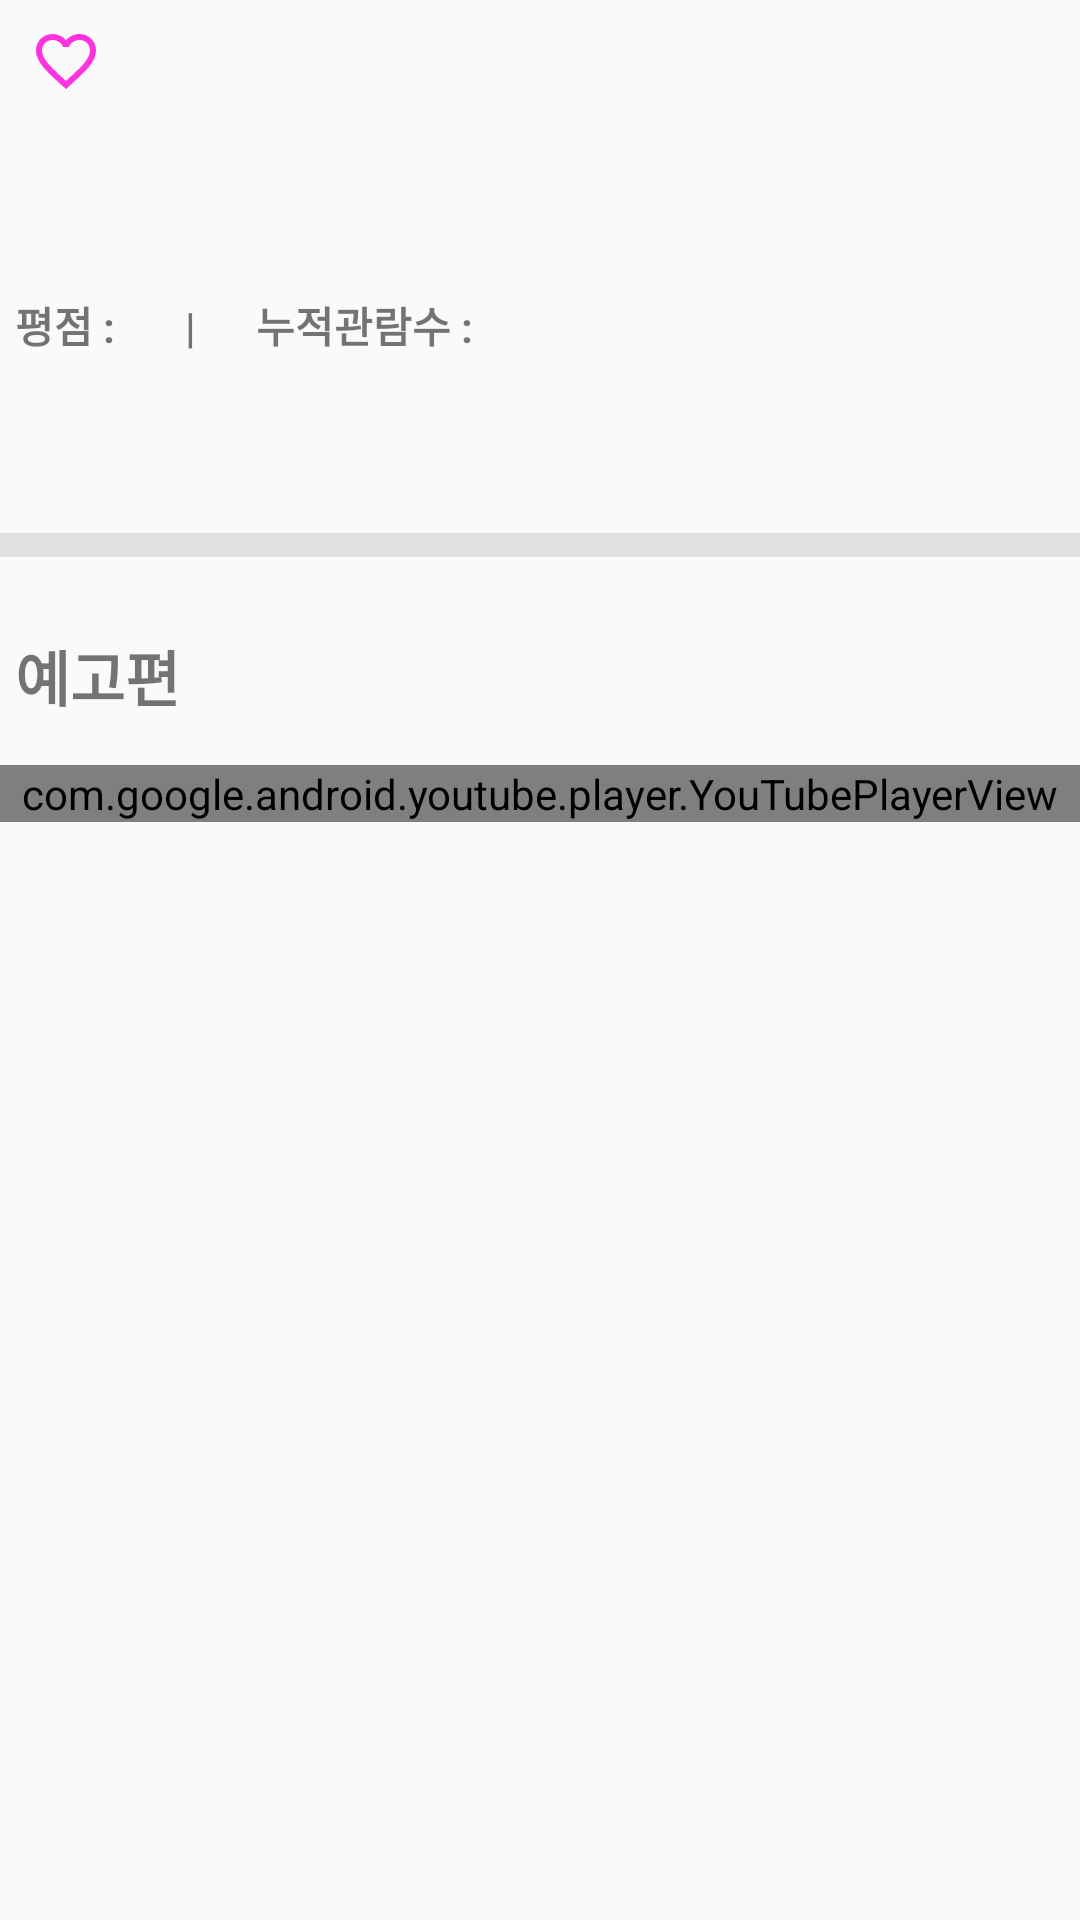

Icon bounding boxes for this 1080 × 1920 phone screenshot, format (x1, y1, x2, y2):
favorite: (36, 34, 96, 89)
